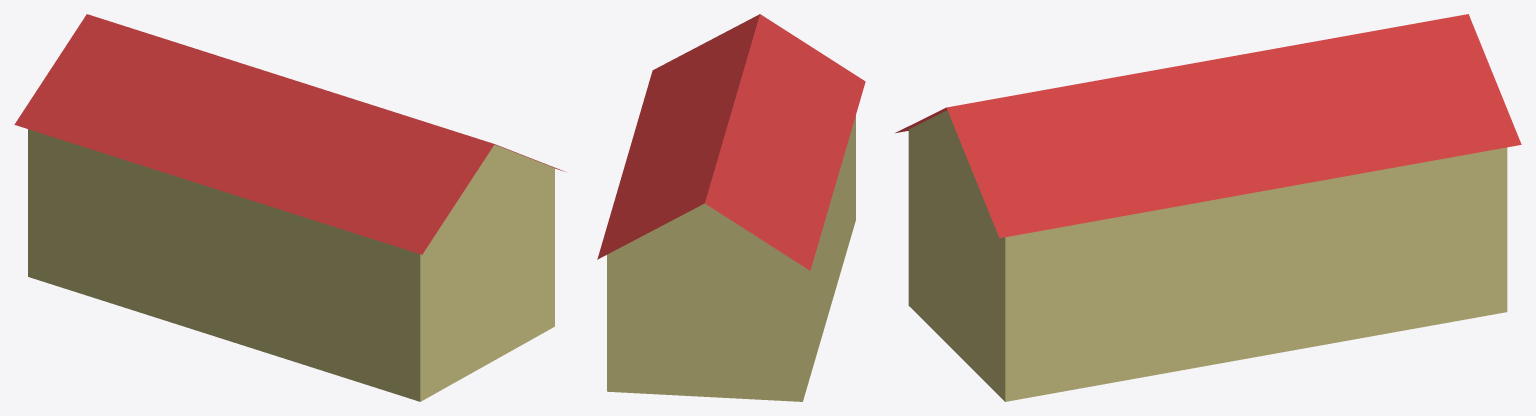
3 views of the same model, side by side, from view 1: azimuth 30°, elevation 25°; view 2: azimuth 150°, elevation 25°; view 3: azimuth 270°, elevation 25° (orthographic). The views are drawn at different scales.
Size of the model in its own units: 21.59 by 28.84 by 12.56.
